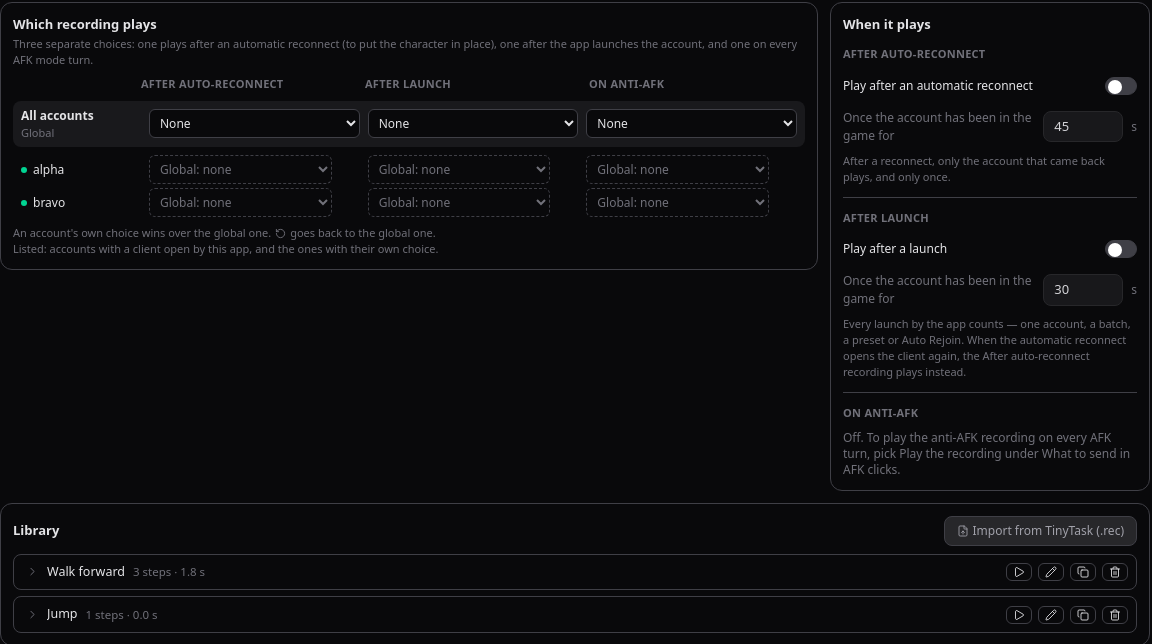
RecordingsTab — biblioteca e editor › move e remove passos
The image size is (1152, 644).
What coordinates should you click on to do the following:
click the button "Walk forward 3 steps · 1.8 s"
I would click on:
 (86, 571)
Its box is [22,560,1000,583].
(page scrolled)
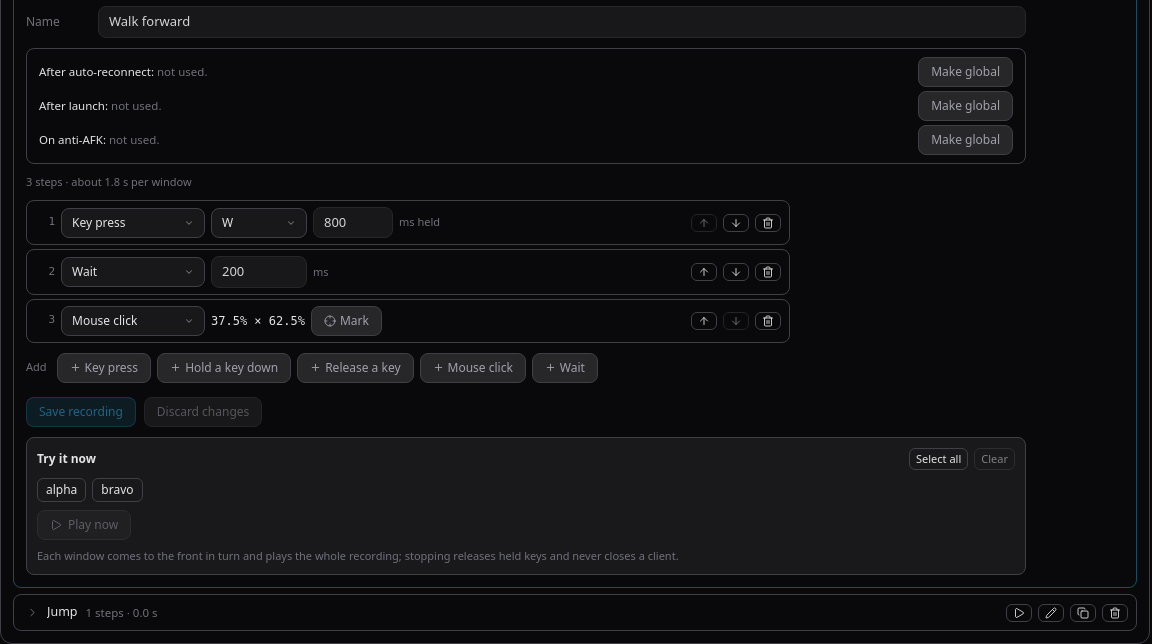
What coordinates should you click on to do the following:
click the button named "Move step 3 up"
I would click on:
 (704, 321)
Its box is [691,312,717,330].
(page scrolled)
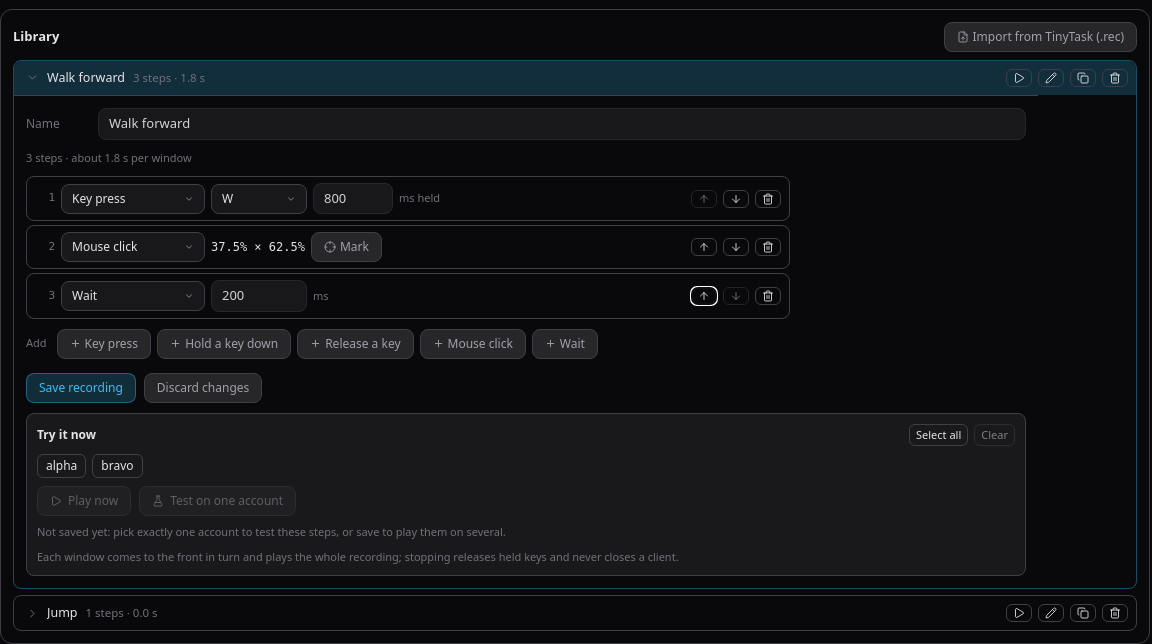
Expected: the list item with test id "recording-step-2" shows "37.5% × 62.5%", [26,225,790,269]
What coordinates should you click on to do the following:
click the button named "Remove step 1"
I would click on:
 (768, 199)
Its box is [755,190,781,208].
(page scrolled)
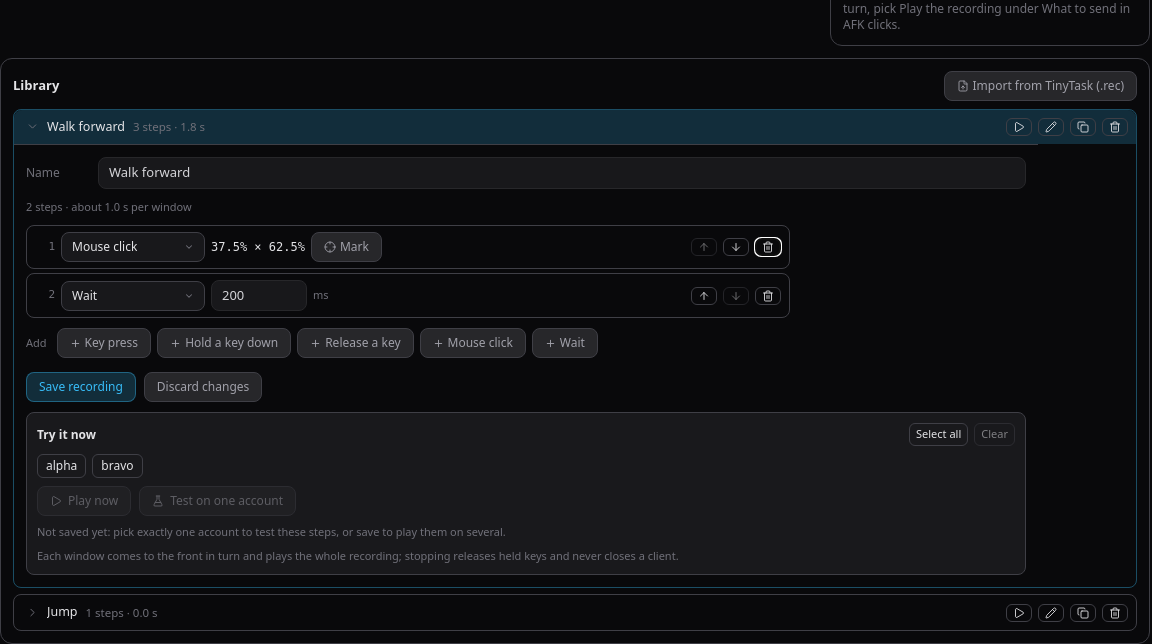
Expected: the list item with test id "recording-step-3" is gone
